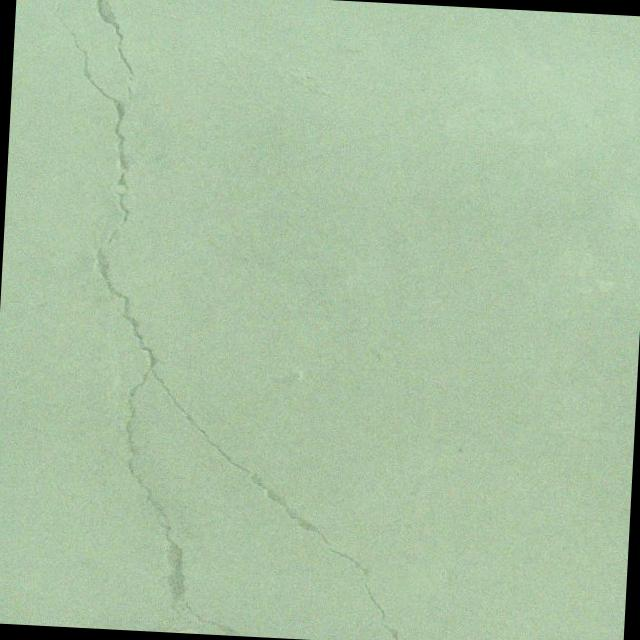crack: (22, 4, 432, 640), (89, 0, 139, 102)
